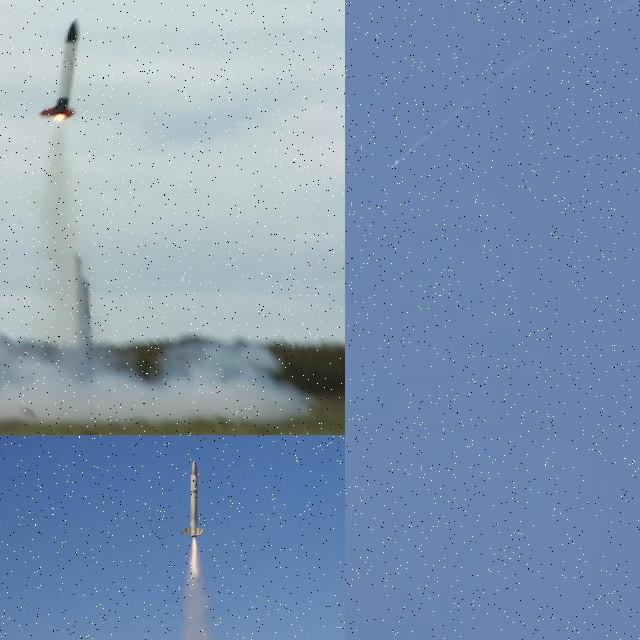Rocket: (39, 18, 82, 120), (180, 460, 205, 538), (391, 160, 399, 169)
